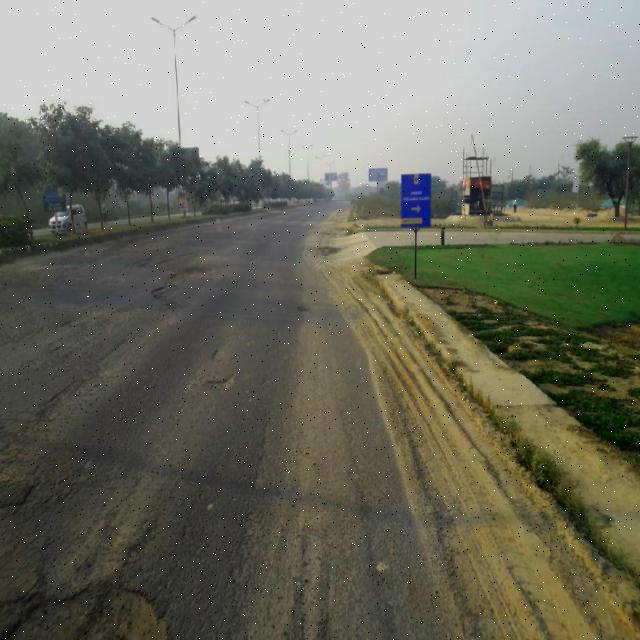D00: (228, 407, 273, 630)
D40: (1, 546, 190, 636), (140, 255, 220, 324), (1, 434, 81, 502), (200, 340, 238, 368), (204, 371, 242, 398)
